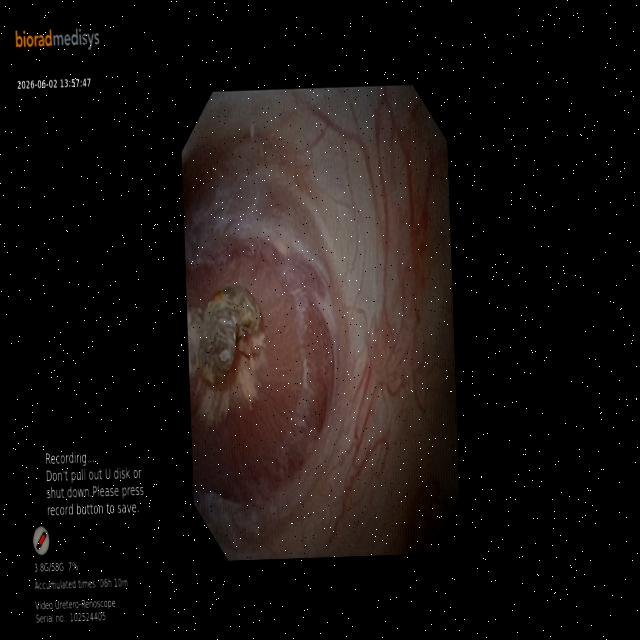stone-new: (196, 284, 260, 384)
